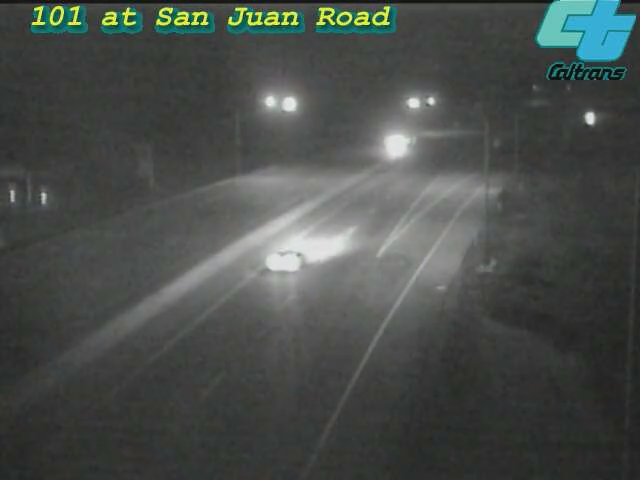vehicle: (244, 219, 324, 299), (367, 121, 417, 171), (566, 93, 616, 143)
